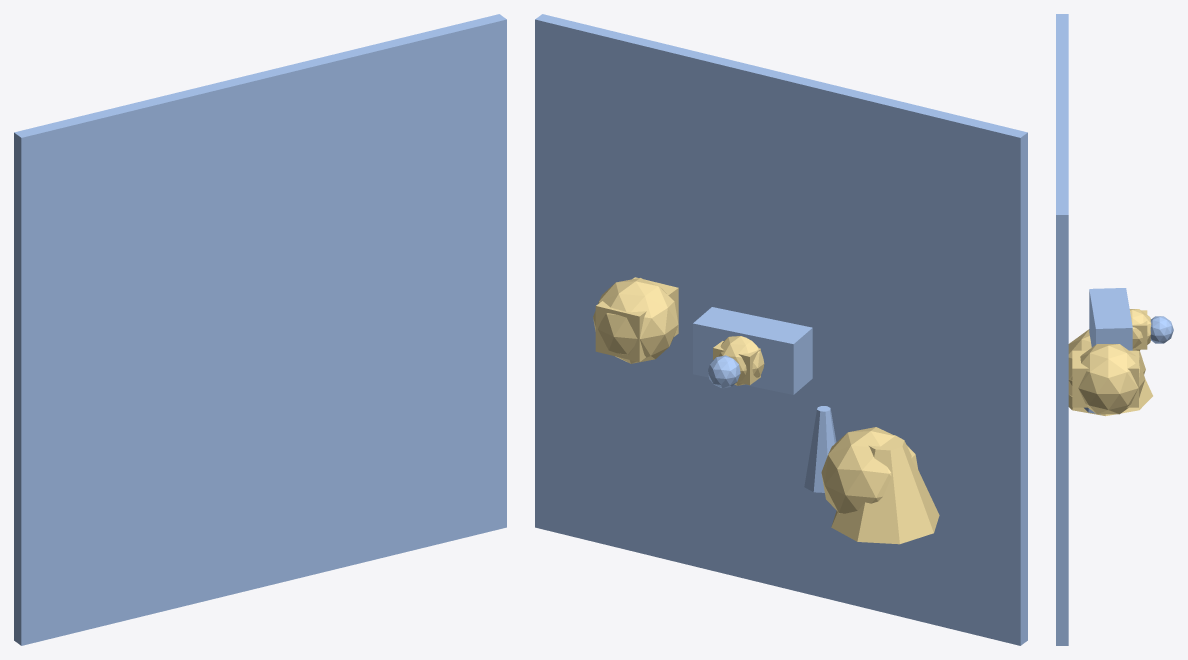
File: tetro-stack-kit.glb
The picture shows the model from 3 angles, left to right: view 1: azimuth 30°, elevation 25°; view 2: azimuth 150°, elevation 25°; view 3: azimuth 270°, elevation 25°; orthographic projection. The views are drawn at different scales.
Visible parts, largest first — view 1: ENVIRONMENT_GROUND; view 2: ENVIRONMENT_GROUND, PLAYER_BODY, ENVIRONMENT_LANDMARK, OBSTACLE, PROFILE_ENVIRONMENT_DETAIL, PROFILE_ENVIRONMENT_SPIRE, PROFILE_OBSTACLE_DETAIL, PLAYER_CORE, PROFILE_PLAYER_HEAD; view 3: ENVIRONMENT_GROUND, OBSTACLE, PLAYER_BODY, PROFILE_OBSTACLE_DETAIL, PROFILE_ENVIRONMENT_DETAIL, PROFILE_PLAYER_HEAD, PLAYER_CORE, ENVIRONMENT_LANDMARK, PROFILE_PLAYER_DETAIL.
Part boxes in pixels (x1,y1,x2,y2): ENVIRONMENT_GROUND: (14,14,506,645); ENVIRONMENT_GROUND: (535,14,1027,645); PLAYER_BODY: (693,307,812,394); ENVIRONMENT_LANDMARK: (831,435,939,544); OBSTACLE: (593,278,678,363); PROFILE_ENVIRONMENT_DETAIL: (821,427,918,513); PROFILE_ENVIRONMENT_SPIRE: (804,406,836,492); PROFILE_OBSTACLE_DETAIL: (595,277,678,362); PLAYER_CORE: (718,336,764,385); PROFILE_PLAYER_HEAD: (707,355,740,388); ENVIRONMENT_GROUND: (1056,14,1068,645); OBSTACLE: (1071,344,1145,414); PLAYER_BODY: (1089,288,1132,350); PROFILE_OBSTACLE_DETAIL: (1072,350,1138,407); PROFILE_ENVIRONMENT_DETAIL: (1068,329,1145,396); PROFILE_PLAYER_HEAD: (1150,316,1173,343); PLAYER_CORE: (1129,309,1151,350); ENVIRONMENT_LANDMARK: (1068,329,1152,416); PROFILE_PLAYER_DETAIL: (1132,310,1147,349).
Size of what is drawn, in the model's own units: 9 by 9 by 2.23.
